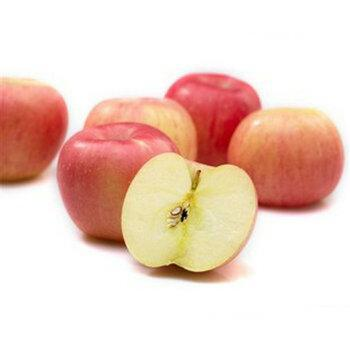apple: (53, 120, 192, 246), (225, 105, 345, 208), (1, 78, 68, 184)
